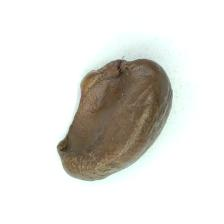NG: (56, 64, 136, 155)
